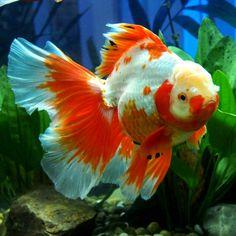goldfish: (28, 28, 227, 193)
